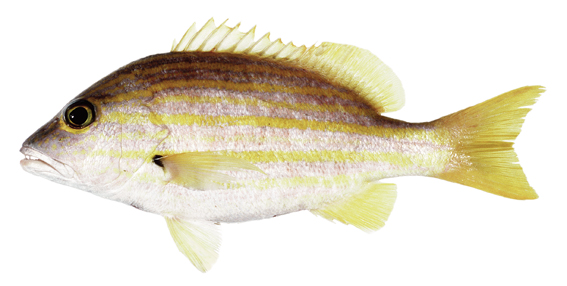fish: (18, 16, 547, 273)
